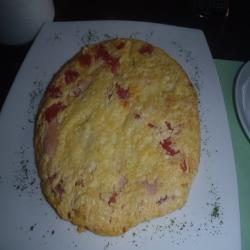omelette: (31, 33, 213, 232)
